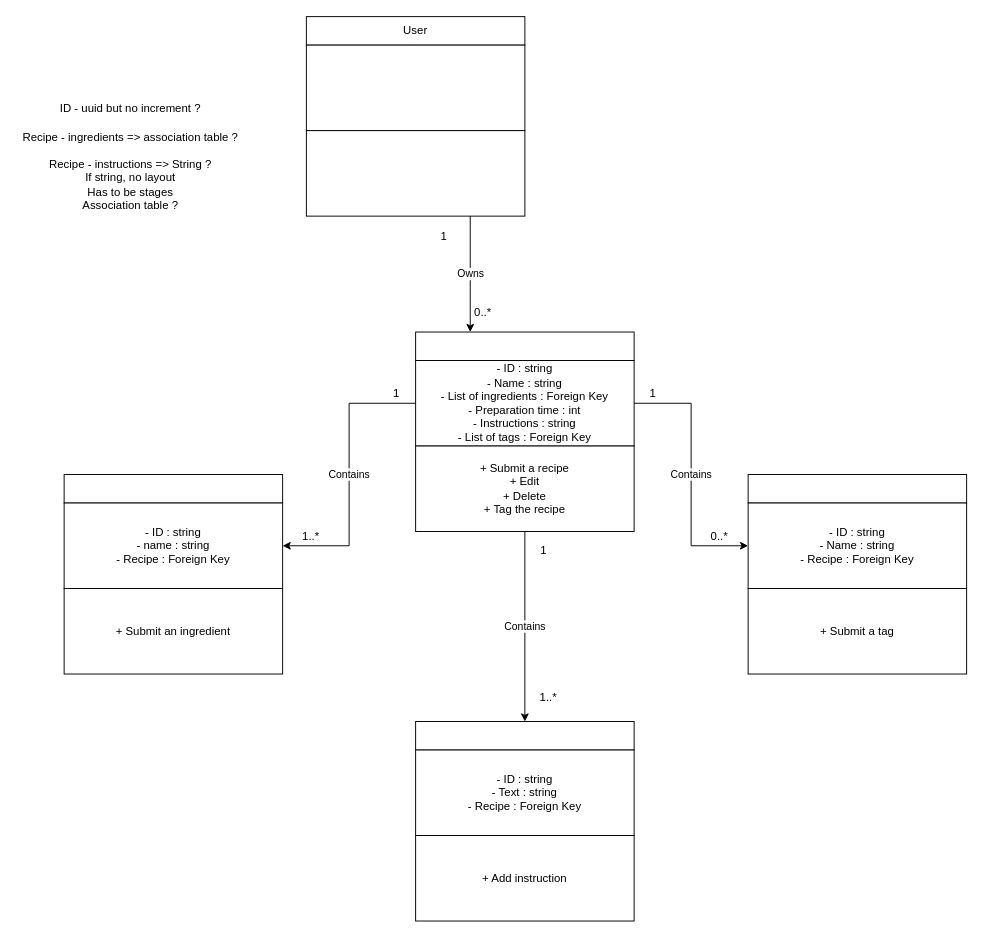
The diagram is 983 pixels wide and 938 high, and some of its shapes have lost their labels. Here are the shapes that lost their labels. From the top down, the centre of each, then its label:
point (415, 87): - ID : string - email : string - password : hashed string - isAmin : bool
point (524, 346): Recipe
point (173, 488): Ingredient
point (857, 488): Tag
point (524, 735): Instruction
